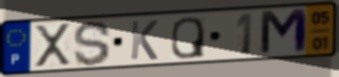1: (234, 11, 254, 58)
K: (129, 19, 160, 62)
M: (258, 7, 310, 57)
Q: (169, 15, 207, 61)
S: (72, 19, 114, 68)
X: (32, 22, 73, 70)
